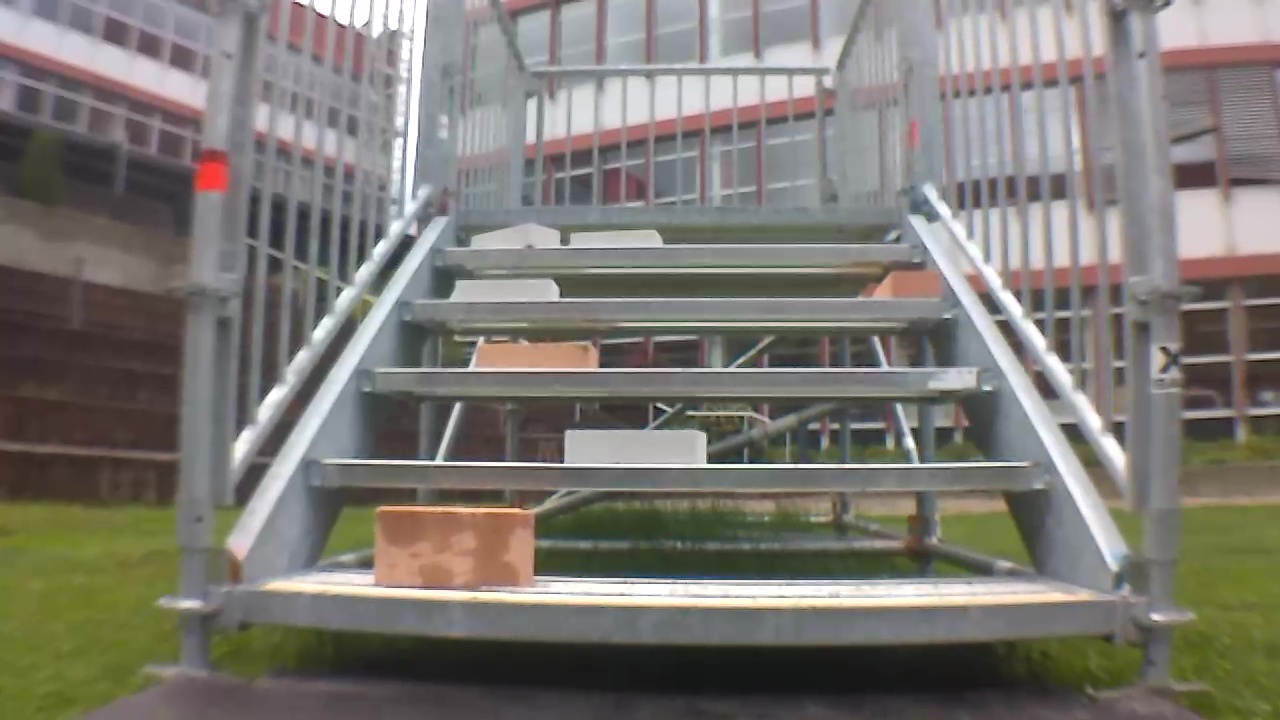brick: (374, 504, 534, 588), (564, 429, 704, 462), (476, 342, 597, 368), (455, 279, 558, 300), (472, 223, 560, 245), (876, 271, 943, 298), (571, 230, 663, 246)
edge: (239, 588, 1116, 644), (305, 461, 1048, 488), (356, 369, 998, 394), (399, 299, 952, 318), (431, 243, 924, 263), (459, 206, 905, 225)
stairs: (158, 1, 1197, 691)
steps: (237, 203, 1124, 655)
